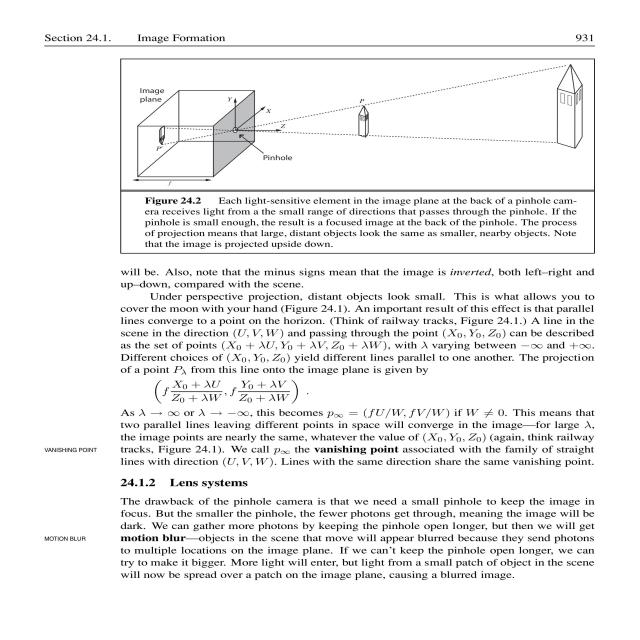diagram: (104, 55, 640, 258)
